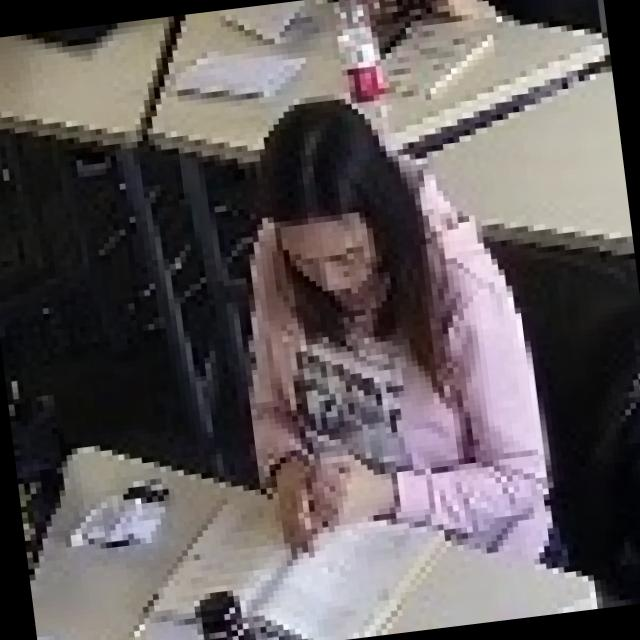write: (210, 74, 560, 626)
